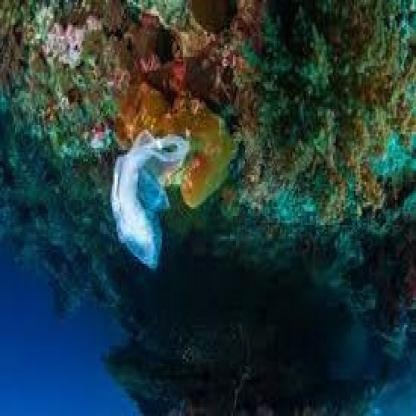pbag: (110, 130, 190, 272)
